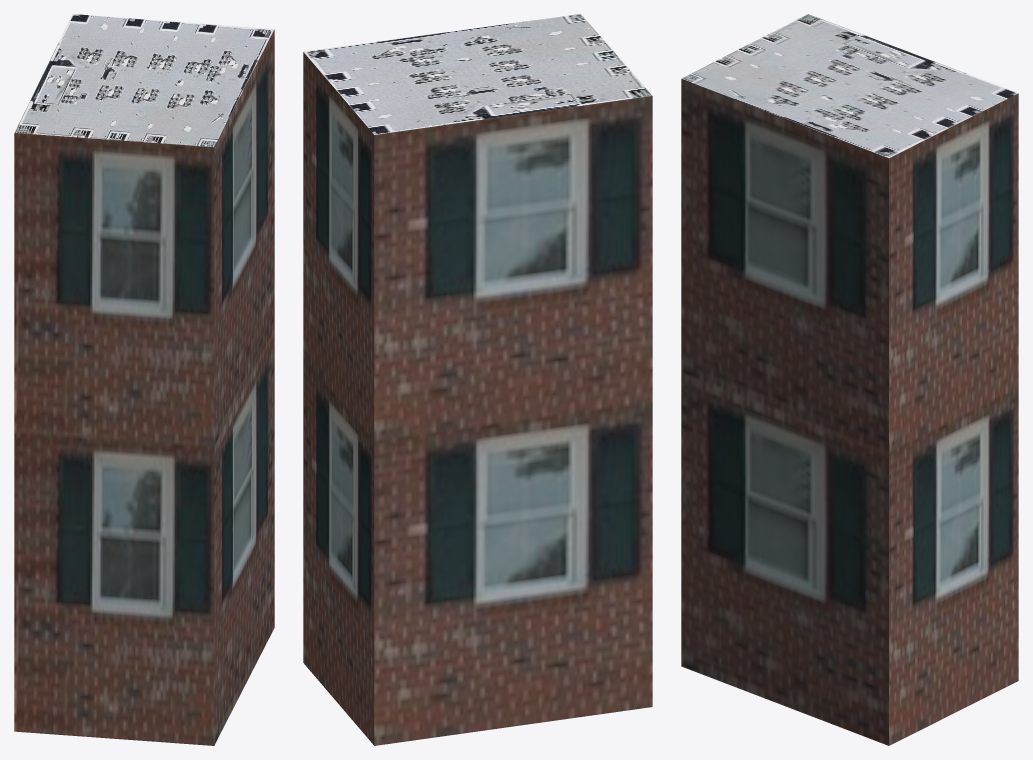
Rendered from ResTex__4369.fbx.
The picture shows the model from 3 angles, left to right: view 1: azimuth 30°, elevation 25°; view 2: azimuth 150°, elevation 25°; view 3: azimuth 270°, elevation 25°; orthographic projection. The views are drawn at different scales.
Parts seen in each view (by area): view 1: CityEngineMaterial_14_m, CityEngineMaterial_4_m; view 2: CityEngineMaterial_14_m, CityEngineMaterial_4_m; view 3: CityEngineMaterial_14_m, CityEngineMaterial_4_m.
Boxes of the visible parts, x1=… form: CityEngineMaterial_14_m: x1=14, y1=29, x2=274, y2=745; CityEngineMaterial_4_m: x1=14, y1=14, x2=274, y2=147; CityEngineMaterial_14_m: x1=303, y1=52, x2=652, y2=745; CityEngineMaterial_4_m: x1=303, y1=14, x2=652, y2=134; CityEngineMaterial_14_m: x1=681, y1=79, x2=1018, y2=745; CityEngineMaterial_4_m: x1=681, y1=14, x2=1018, y2=157.
Size of the model in its own units: 3.16 by 6 by 3.12.
2 materials, 2 textured.
